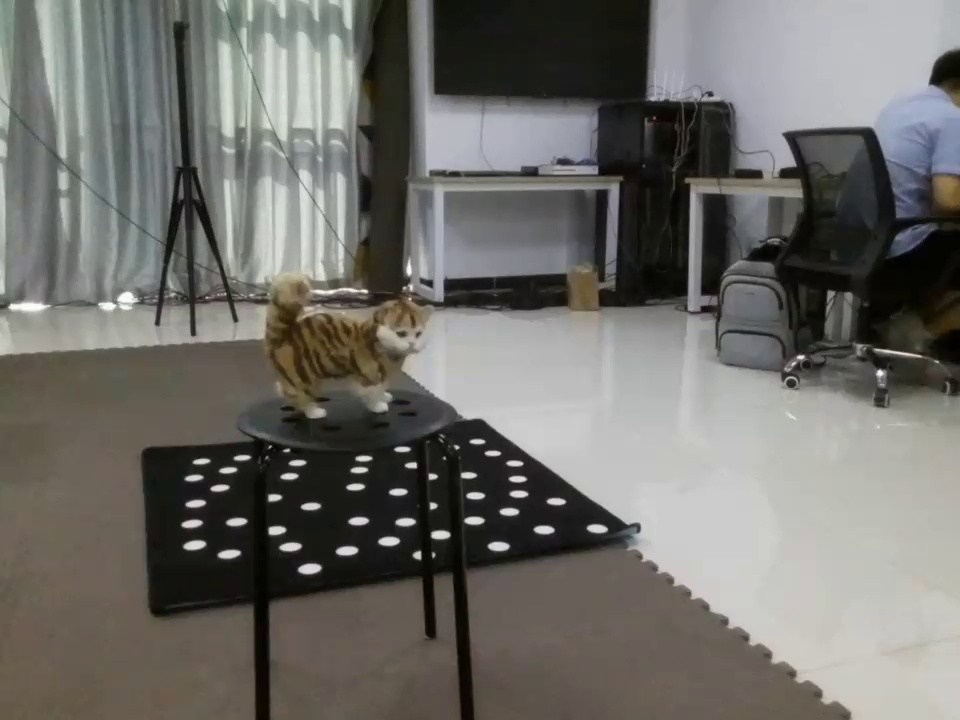cat: (247, 264, 432, 426)
